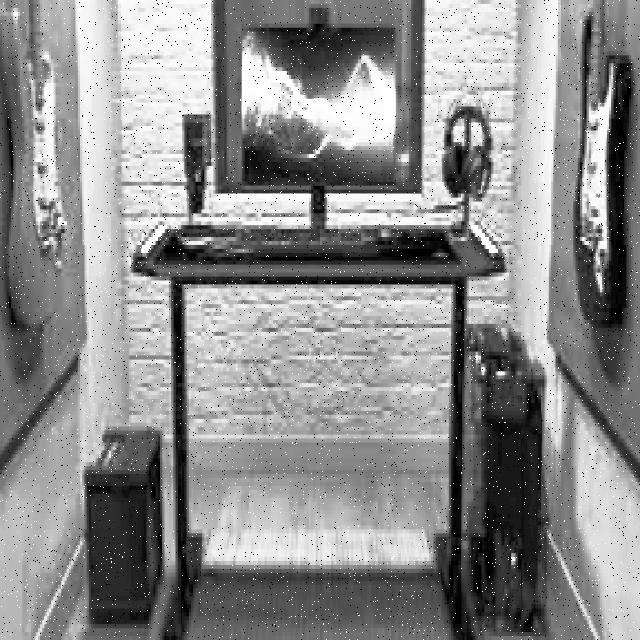table: (131, 213, 505, 640)
